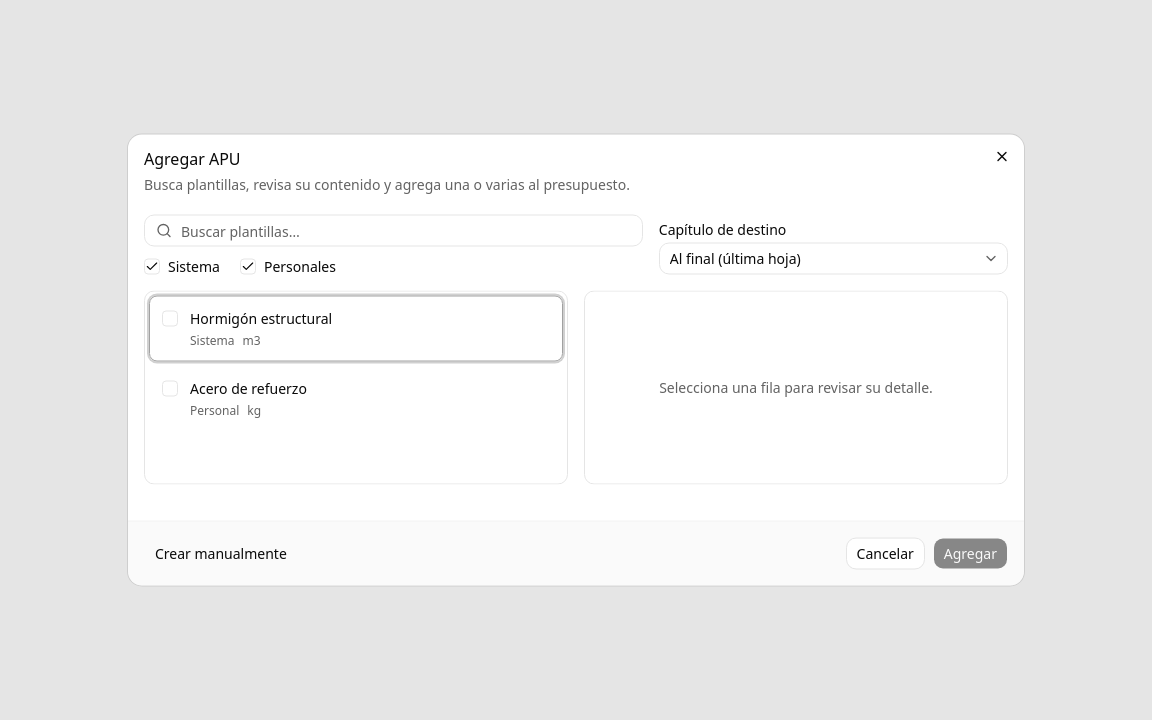
Test: DialogoAgregarApu › mantiene visibles las acciones del selector y del formulario manual
Check: the button "Crear manualmente" is shown, box [144,538,298,570]
Check: the button with aria-label "Agregar plantillas" is shown, box [933,538,1008,570]
Press Enter
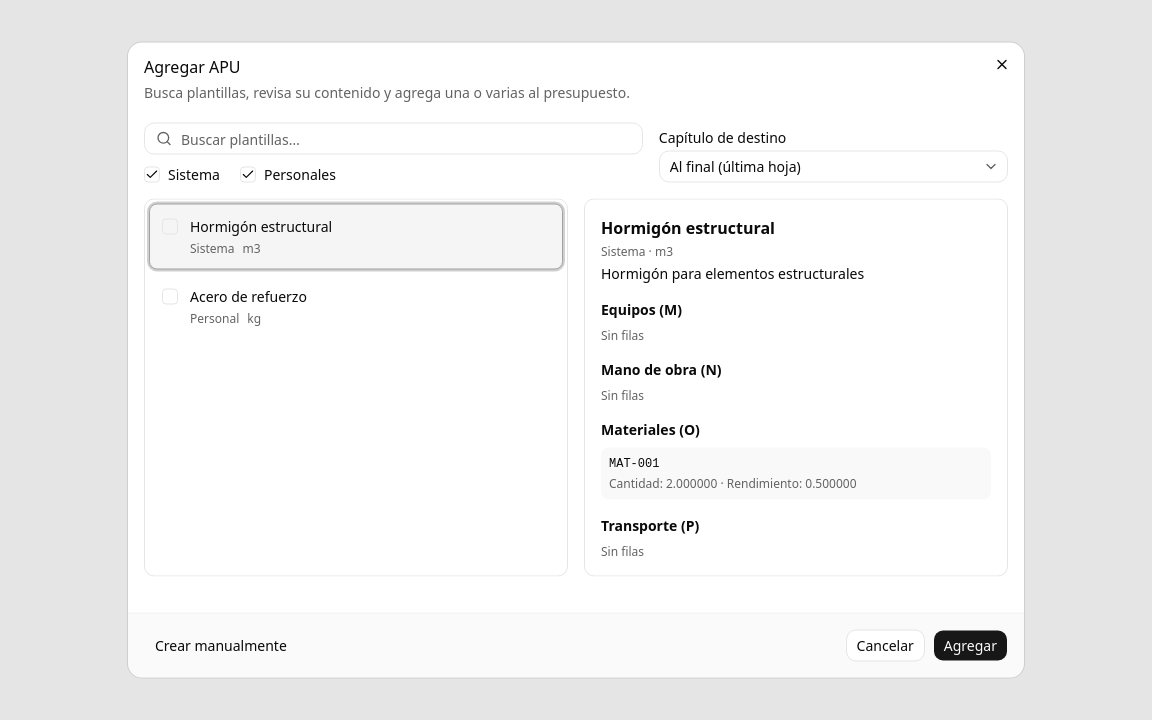
Check: the heading "Hormigón estructural" is shown, box [601,216,775,238]
Press Arrowdown
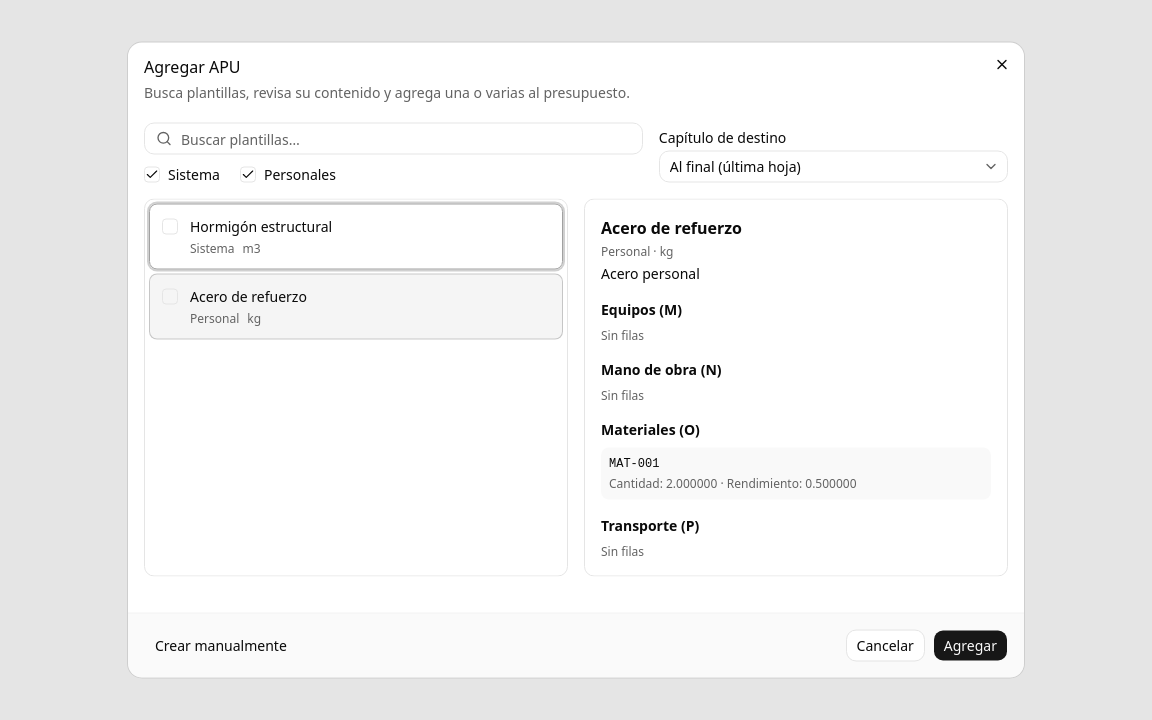
Type keys " "
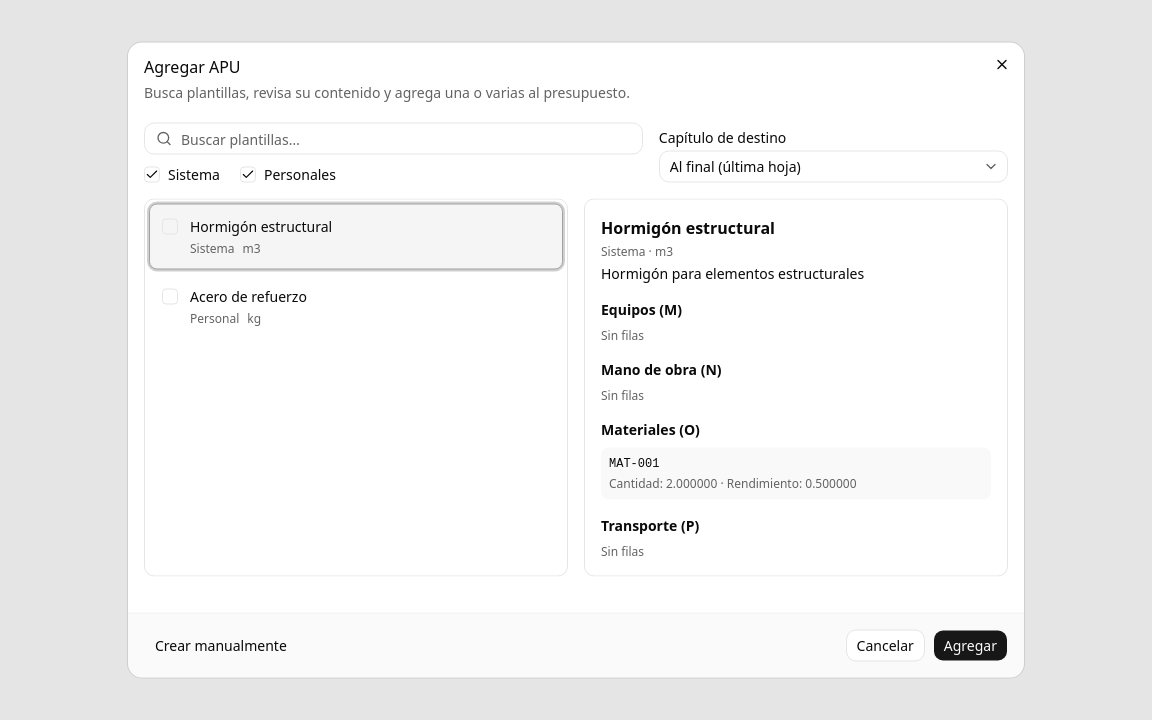
Check: the heading "Materiales (O)" is shown, box [601,420,700,438]
Check: the text "MAT-001" is shown, box [609,456,659,470]
Check: the text "Cantidad: 2.000000 · Rendimiento: 0.500000" is shown, box [609,474,857,492]
Click the button "Crear manualmente". click: (221, 646)
box: [144,630,298,662]
(page scrolled)
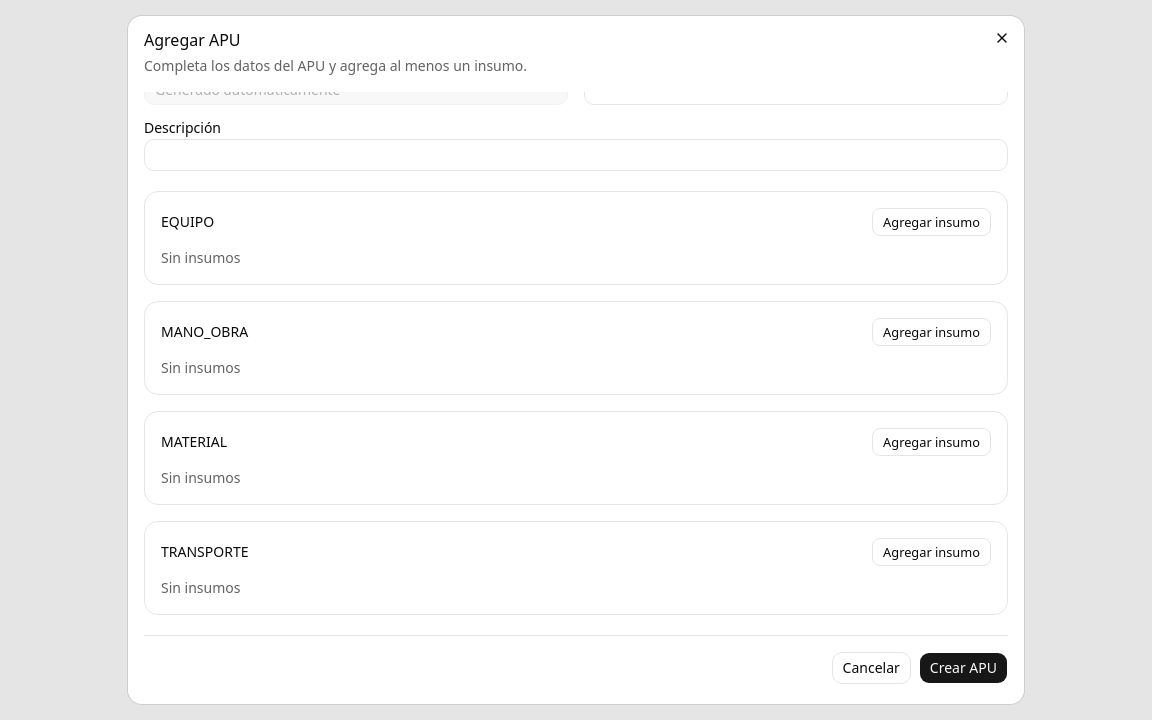
Check: the button "Cancelar" is shown, box [832,652,911,684]
Check: the button "Crear APU" is shown, box [919,652,1008,684]
